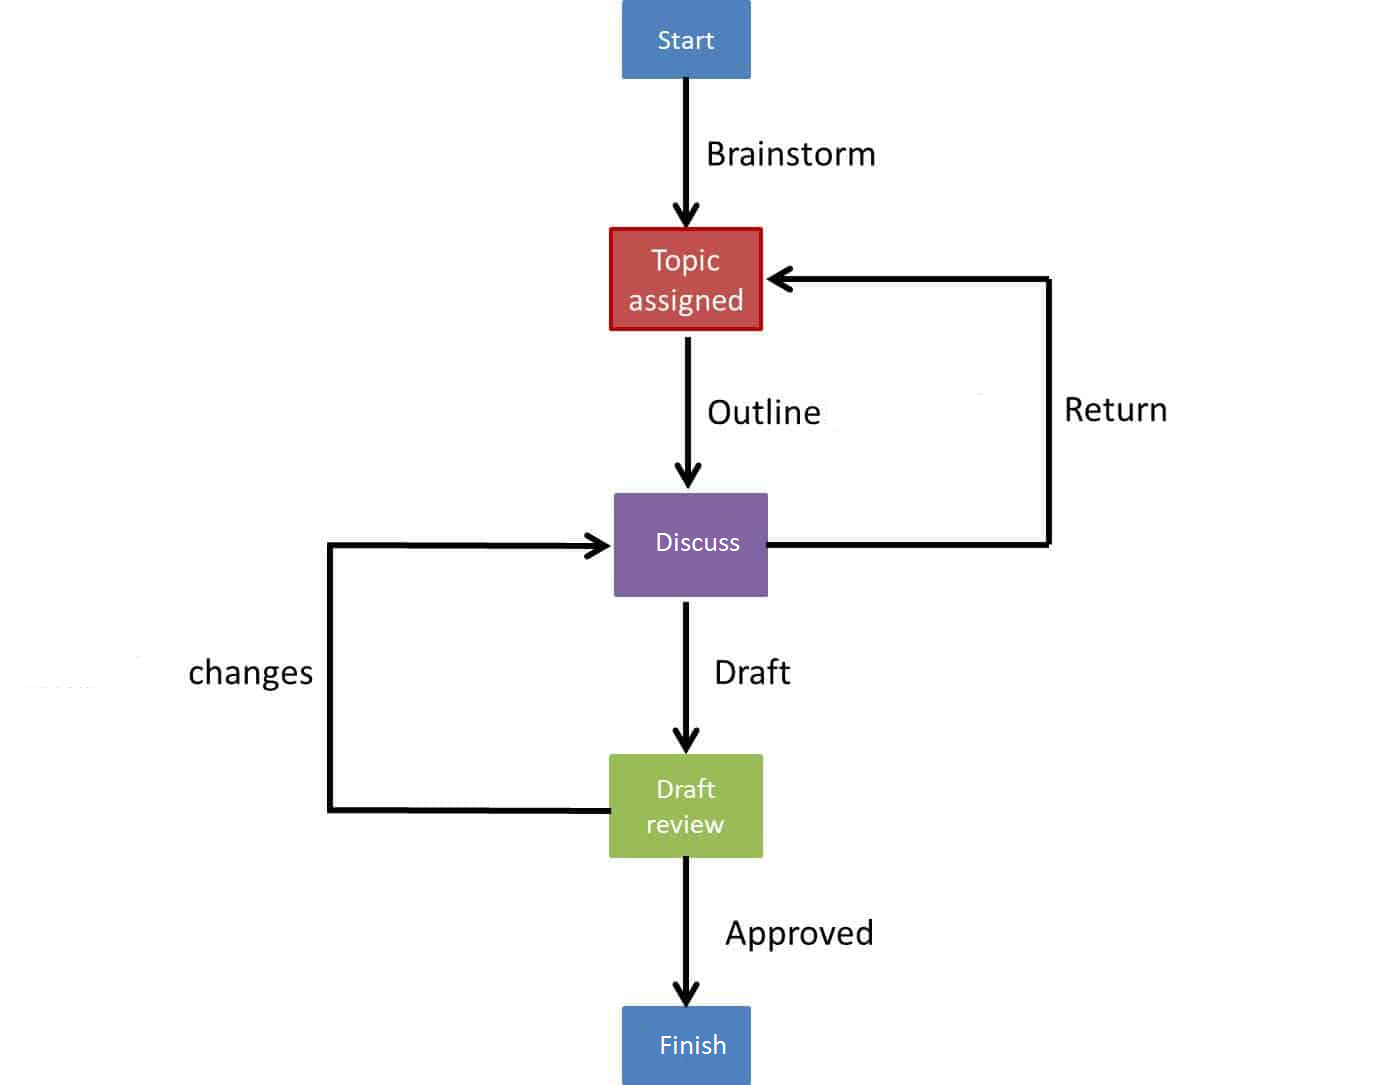arrow: (766, 261, 1060, 556), (319, 532, 611, 820), (669, 594, 701, 753), (671, 860, 704, 1006), (669, 73, 701, 227), (673, 330, 702, 492)
process: (602, 219, 768, 340), (606, 486, 773, 605), (604, 748, 770, 863), (615, 1, 758, 88), (615, 999, 758, 1085)
text: (620, 242, 750, 324), (704, 133, 879, 171), (638, 773, 729, 840), (722, 914, 879, 950), (178, 653, 317, 689), (706, 391, 822, 429), (1063, 391, 1172, 427), (648, 527, 743, 560), (648, 20, 720, 61), (711, 655, 794, 689), (653, 1030, 729, 1063)
